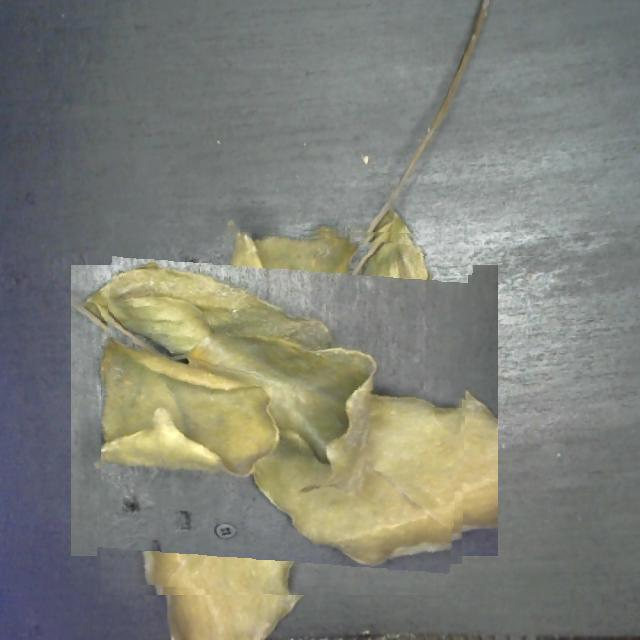biodegradable: (101, 226, 469, 595)
